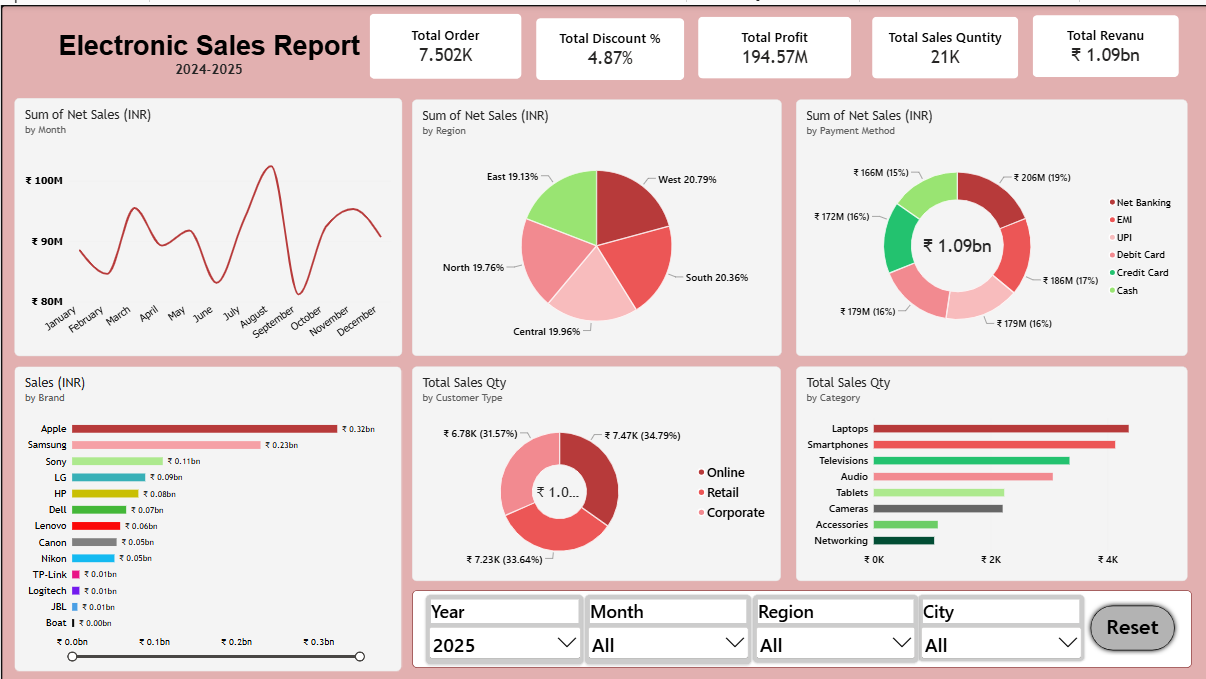

The page's visual inventory and layout, read from the dashboard file:
{"tool":"powerbi","page":{"name":"Main","canvas":[1920,1080],"ordinal":0},"visuals":[{"type":"lineChart","fields":{"Category":["Sales Data.Month"],"Y":["Sum(Sales Data.Net Sales (INR))"]},"box":[21.5,147.9,616.9,410.5],"z":0},{"type":"shape","box":[653.7,930.5,1240.7,124.1],"z":0,"group":"g1"},{"type":"pieChart","fields":{"Category":["Sales Data.Region"],"Y":["Sum(Sales Data.Net Sales (INR))"]},"box":[653.7,150.3,587.8,408],"z":1000},{"type":"slicer","fields":{"Values":["Sales Data.City"]},"box":[1458.7,938.5,266.3,106.9],"z":1000,"group":"g1"},{"type":"donutChart","fields":{"Category":["Sales Data.Payment Method"],"Y":["Sum(Sales Data.Net Sales (INR))"]},"box":[1264.5,150.3,622.7,408],"z":2000},{"type":"donutChart","fields":{"Y":["Sales Data.Total Sales"],"Category":["Sales Data.Customer Type"]},"box":[653.7,575,586.9,341.2],"z":3000},{"type":"slicer","fields":{"Values":["Sales Data.Region"]},"box":[1194.2,938.5,264.5,109.3],"z":3000,"group":"g1"},{"type":"textbox","box":[31,40.6,599.9,87.4],"z":4000},{"type":"slicer","fields":{"Values":["Sales Data.Year"]},"box":[675.8,938.5,252.1,111.7],"z":4000,"group":"g1"},{"type":"barChart","fields":{"Category":["Sales Data.Brand"],"Y":["Sum(Sales Data.Net Sales (INR))"]},"box":[21.5,575,615.6,484.3],"z":5000},{"type":"group","id":"g1","title":"Group 1","box":[653.7,930.5,1240.7,124.1],"z":6000},{"type":"slicer","fields":{"Values":["Sales Data.Months"]},"box":[927.9,938.5,266.3,111.7],"z":6000,"group":"g1"},{"type":"barChart","fields":{"Category":["Sales Data.Category"],"Y":["Sales Data.Total Sales"]},"box":[1264.5,575,622.7,341.2],"z":7000},{"type":"actionButton","box":[1725,948.2,149.9,87.4],"z":7000,"group":"g1"},{"type":"group","id":"g2","title":"Group 2","box":[576.1,2.9,1311.2,128.3],"z":8000},{"type":"group","id":"g3","title":"Group 3","box":[576.1,2.9,1311.2,128.3],"z":8002,"group":"g2"},{"type":"cardVisual","fields":{"Data":["Sum(Sales Data.Net Sales (INR))"]},"box":[1631.4,4.7,255.9,121.7],"z":10000,"group":"g3"},{"type":"cardVisual","fields":{"Data":["Sum(Sales Data.Quantity)"]},"box":[1375.5,7.1,255.9,121.7],"z":11000,"group":"g3"},{"type":"cardVisual","fields":{"Data":["Avg(Sales Data.Discount %)"]},"box":[839.9,9.5,258.5,121.7],"z":12000,"group":"g3"},{"type":"cardVisual","fields":{"Data":["Sum(Sales Data.Profit (INR))"]},"box":[1098.5,7.1,266.5,121.7],"z":13000,"group":"g3"},{"type":"cardVisual","fields":{"Data":["Count(Sales Data.Order ID)"]},"box":[576.1,2.9,264.8,126.5],"z":14000,"group":"g3"}]}

Visuals, with their boxes in screenshot pixels (x1, y1, x2, y2), scaled from the page's 1920x1080 canvas onto the 1206x679 screenshot:
lineChart - Sales Data.Month x Sum(Sales Data.Net Sales (INR)): detection(14, 93, 401, 351)
shape: detection(411, 585, 1190, 663)
pieChart - Sales Data.Region x Sum(Sales Data.Net Sales (INR)): detection(411, 94, 780, 351)
slicer - Sales Data.City: detection(916, 590, 1084, 657)
donutChart - Sales Data.Payment Method x Sum(Sales Data.Net Sales (INR)): detection(794, 94, 1185, 351)
donutChart - Sales Data.Total Sales x Sales Data.Customer Type: detection(411, 362, 779, 576)
slicer - Sales Data.Region: detection(750, 590, 916, 659)
textbox: detection(19, 26, 396, 80)
slicer - Sales Data.Year: detection(424, 590, 583, 660)
barChart - Sales Data.Brand x Sum(Sales Data.Net Sales (INR)): detection(14, 362, 400, 666)
"Group 1" group: detection(411, 585, 1190, 663)
slicer - Sales Data.Months: detection(583, 590, 750, 660)
barChart - Sales Data.Category x Sales Data.Total Sales: detection(794, 362, 1185, 576)
actionButton: detection(1084, 596, 1178, 651)
"Group 2" group: detection(362, 2, 1185, 82)
"Group 3" group: detection(362, 2, 1185, 82)
cardVisual - Sum(Sales Data.Net Sales (INR)): detection(1025, 3, 1185, 79)
cardVisual - Sum(Sales Data.Quantity): detection(864, 4, 1025, 81)
cardVisual - Avg(Sales Data.Discount %): detection(528, 6, 690, 82)
cardVisual - Sum(Sales Data.Profit (INR)): detection(690, 4, 857, 81)
cardVisual - Count(Sales Data.Order ID): detection(362, 2, 528, 81)
